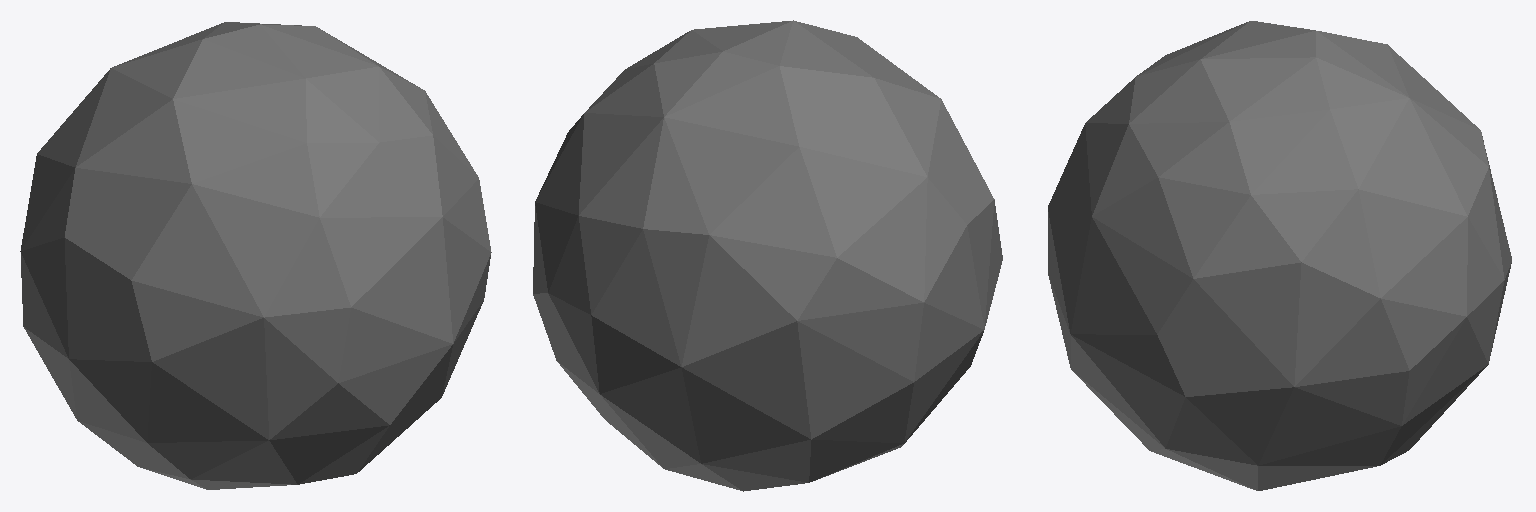
URDF robot description (soccer_ball_007):
<?xml version="1.0" ?>
<robot name="soccer_ball_007">
  <material name="color">
    <color rgba=".5 .5 .5 1"/>
  </material>

  <link name="base_link">
    <contact>
      <lateral_friction value="1.0"/>
      <rolling_friction value="0.001"/>
      <spinning_friction value="0.001"/>
      <inertia_scaling value="1.0"/>
    </contact>
    <inertial>
      <origin rpy="0 0 0" xyz="-1.71584e-06 9.25644e-08 2.26425e-06"/>
       <mass value="0.1"/>
       <inertia ixx="1" ixy="0" ixz="0" iyy="1" iyz="0" izz="1"/>
    </inertial>

    <visual>
      <origin rpy="0 0 0" xyz="0 0 0"/>
      <geometry>
        <mesh filename="soccer_ball_007_vhacd_0_of_1.obj" scale="1 1 1"/>
      </geometry>
      <material name="color"/>
    </visual>

    <collision>
      <origin rpy="0 0 0" xyz="0 0 0"/>
      <geometry>
        <mesh filename="soccer_ball_007_vhacd_0_of_1.obj" scale="1 1 1"/>
      </geometry>
    </collision>

  </link>
</robot>

--- Render facts (derived) ---
3 views of the same robot in one strip: view 1: azimuth 30°, elevation 25°; view 2: azimuth 150°, elevation 25°; view 3: azimuth 270°, elevation 25° (orthographic).
Model soccer_ball_007 with 1 links and 0 joints (none), rooted at base_link, posed every joint at zero.
Links seen in each view (by area): view 1: base_link; view 2: base_link; view 3: base_link.
Boxes of the visible links, <box> form: base_link: <box>20,22,491,489</box>; base_link: <box>533,20,1002,491</box>; base_link: <box>1048,21,1511,490</box>.
Size in the robot's own frame: 0.2252 by 0.2255 by 0.2255 metres.
Meshes: 1 distinct files referenced, 1 mesh visuals loaded (1 OBJ).